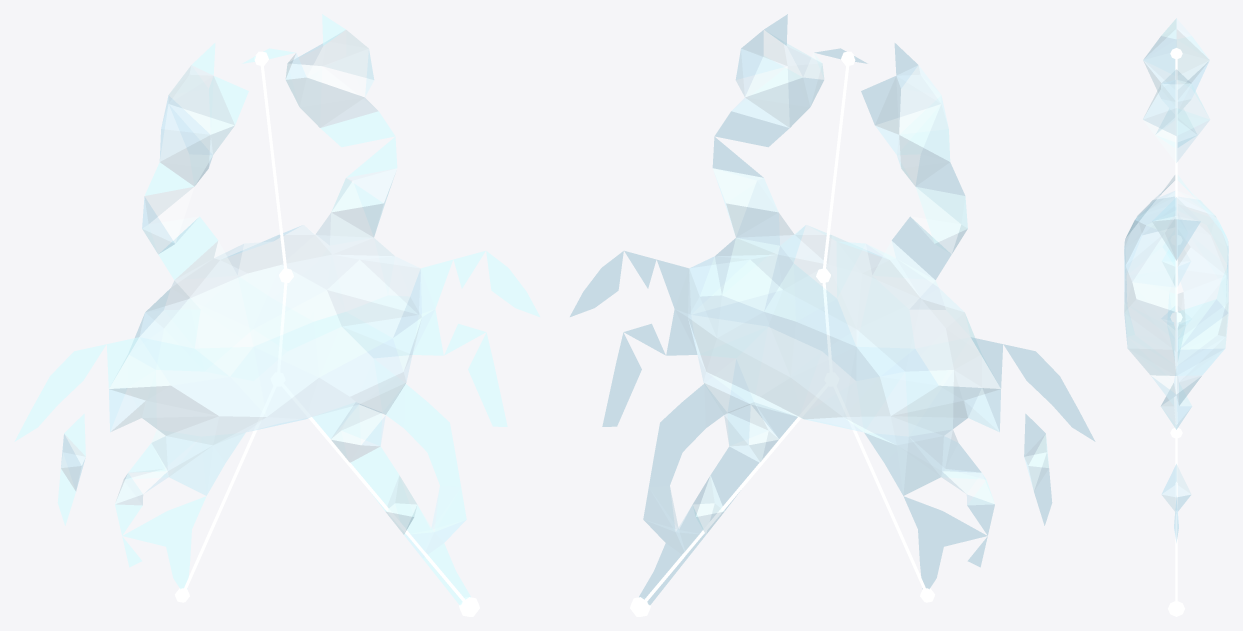
The model's file is 04_Cancer.glb.
3 views of the same model, side by side, from view 1: azimuth 30°, elevation 25°; view 2: azimuth 150°, elevation 25°; view 3: azimuth 270°, elevation 25° (orthographic). The views are drawn at different scales.
Parts seen in each view (by area): view 1: Cancer; view 2: Cancer; view 3: Cancer.
Part boxes in pixels (left/top/right/bottom): Cancer: left=14, top=14, right=539, bottom=616; Cancer: left=570, top=14, right=1095, bottom=616; Cancer: left=1124, top=18, right=1228, bottom=616.
Bounding box in the file's own units: 1.38 × 1.6 × 0.3.
